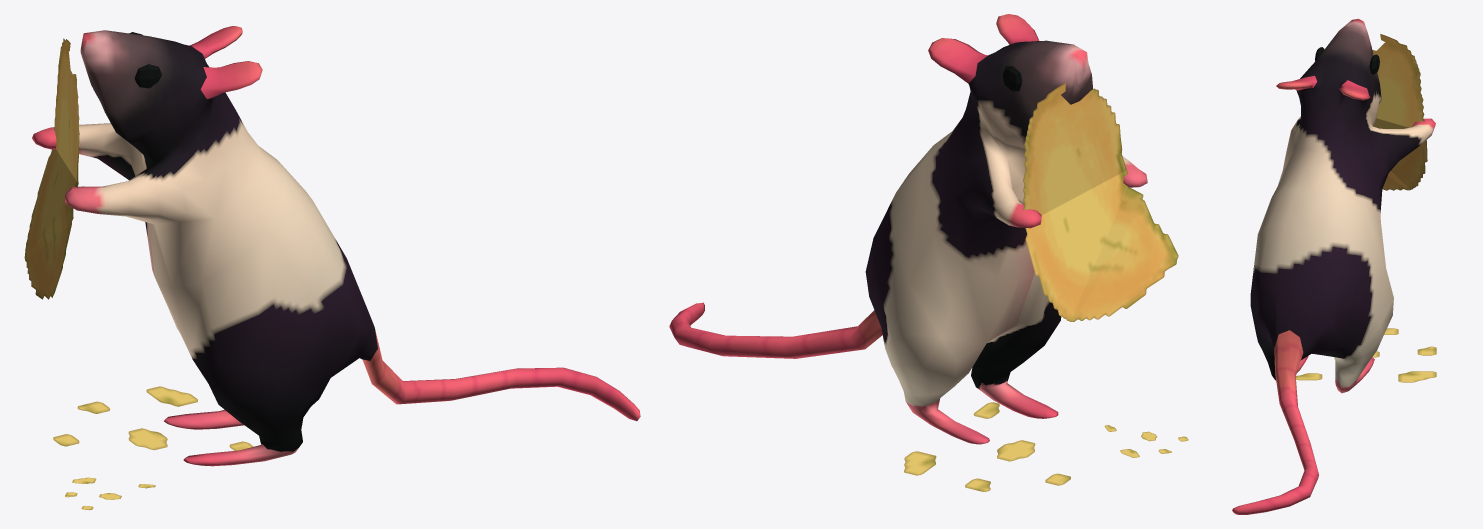
The model's file is chipmouse.fbx.
The picture shows the model from 3 angles, left to right: view 1: azimuth 30°, elevation 25°; view 2: azimuth 150°, elevation 25°; view 3: azimuth 270°, elevation 25°; orthographic projection. The views are drawn at different scales.
Parts seen in each view (by area): view 1: Cube.004, Plane.003, Plane.007; view 2: Cube.004, Plane.003, Plane.007; view 3: Cube.004, Plane.003, Plane.007.
Boxes of the visible parts, x1,y1,x2,y2 form: Cube.004: (32,26,640,466); Plane.003: (24,38,79,299); Plane.007: (53,386,253,450); Cube.004: (669,14,1147,444); Plane.003: (1023,82,1178,321); Plane.007: (904,402,1070,491); Cube.004: (1232,18,1435,514); Plane.003: (1372,34,1427,190); Plane.007: (1296,328,1436,382).
Bounding box in the file's own units: 2421 × 1848 × 1211.
